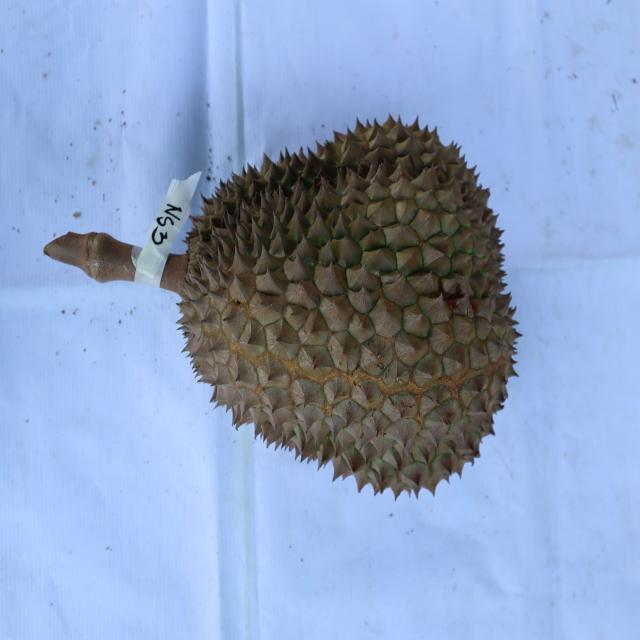mature: (177, 116, 521, 498)
